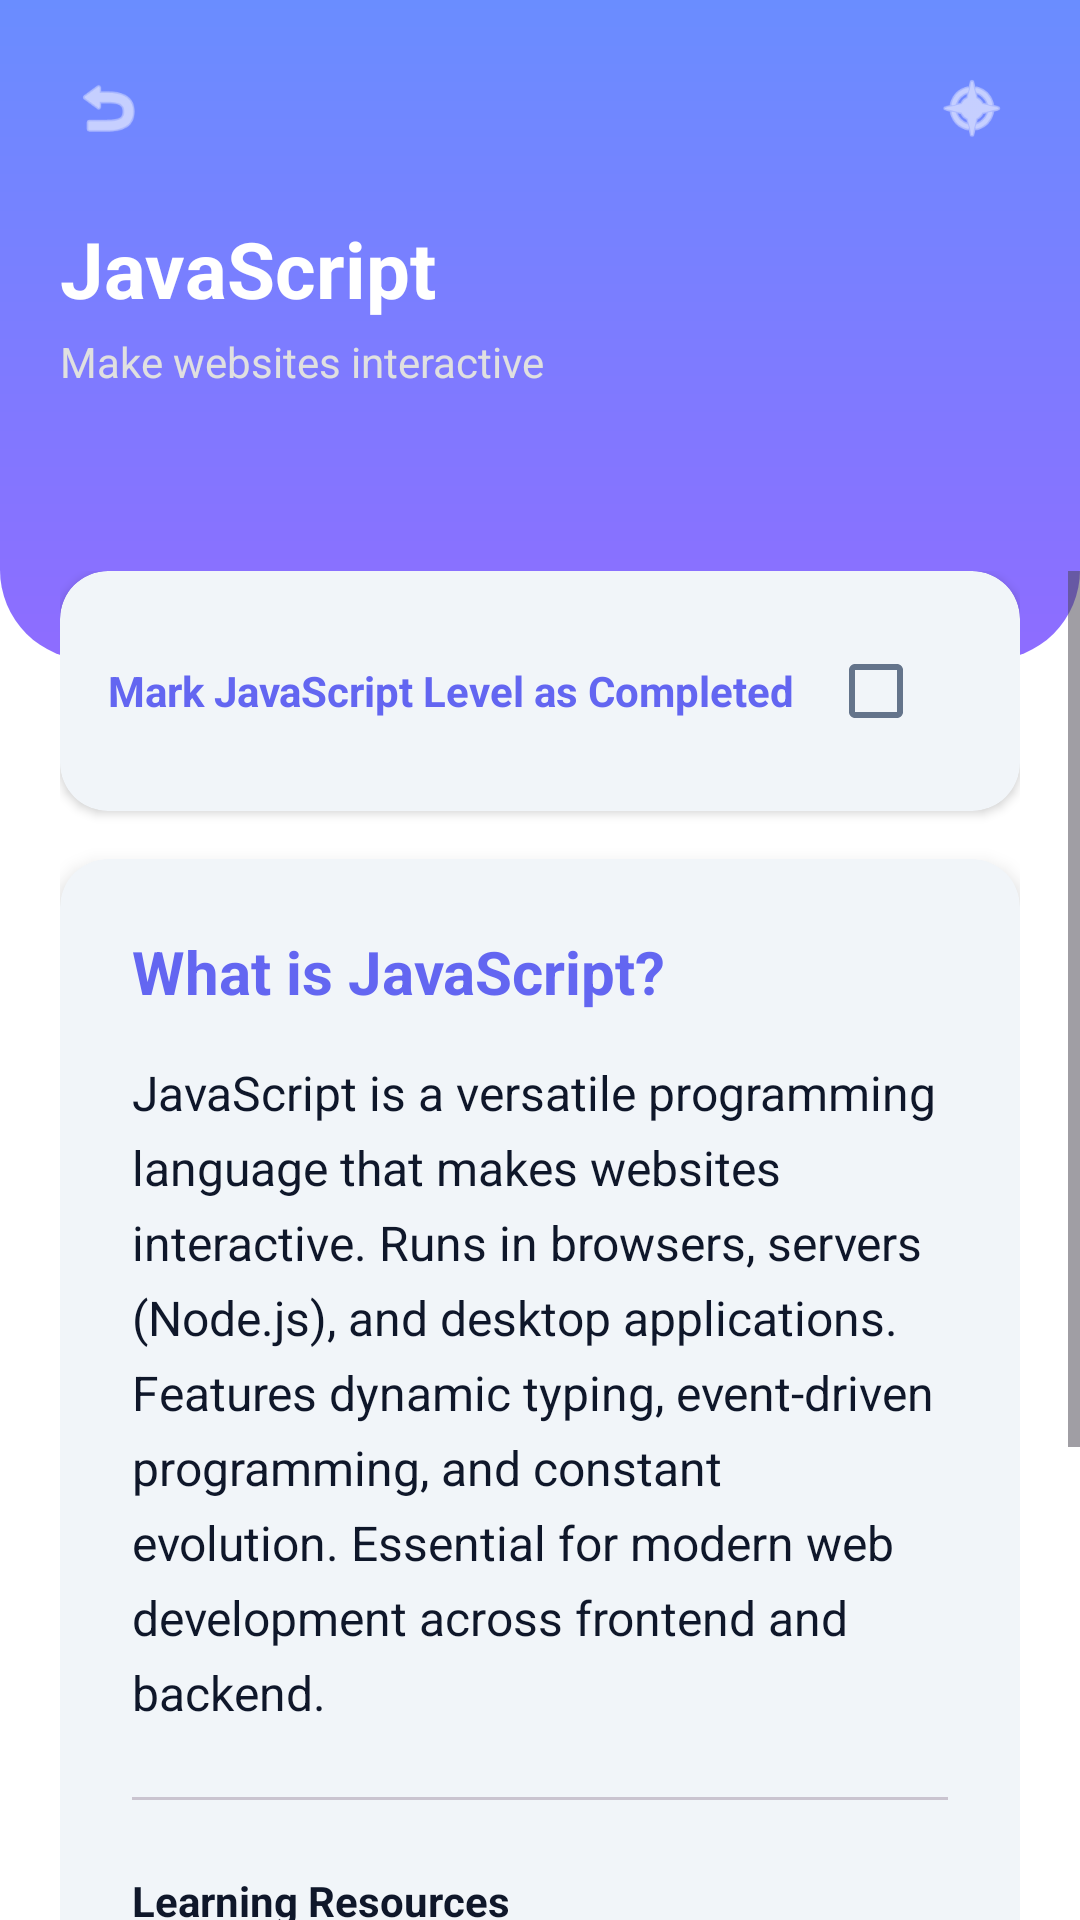

Where to tap for icons on this 1080x1920 app screen, as (x=x, y=y):
compass: (x=971, y=108)
revert: (x=109, y=108)
